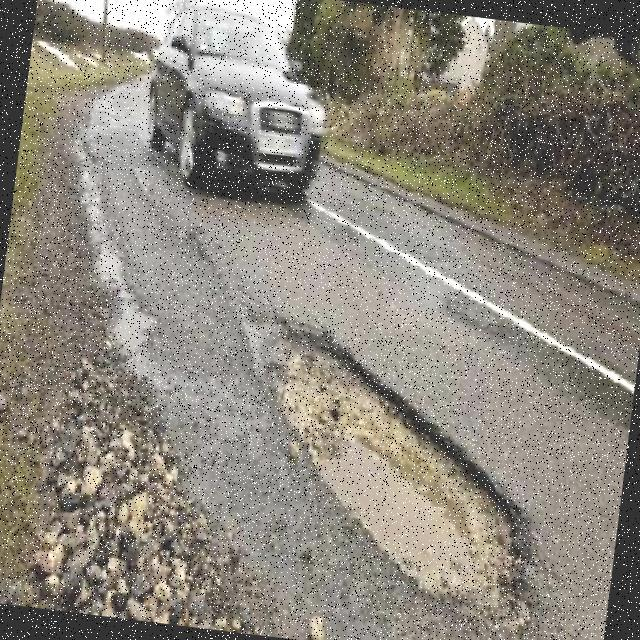Pothole: (240, 313, 532, 604)
